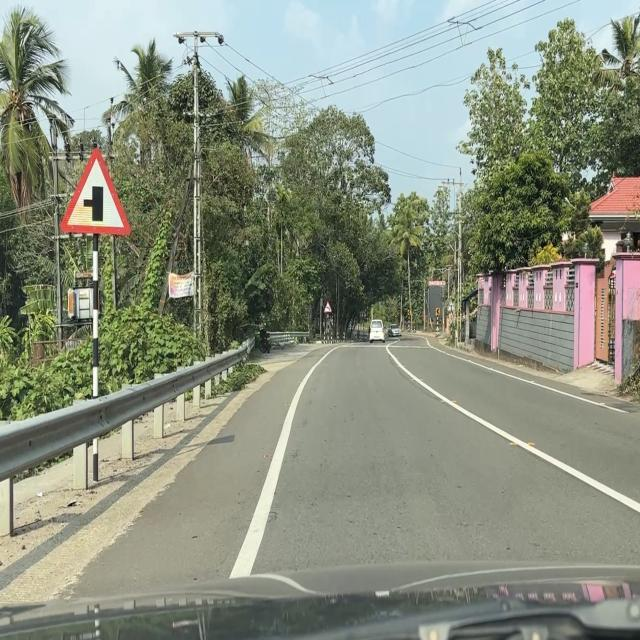SIDE_ROAD_LEFT: (58, 147, 132, 237)
